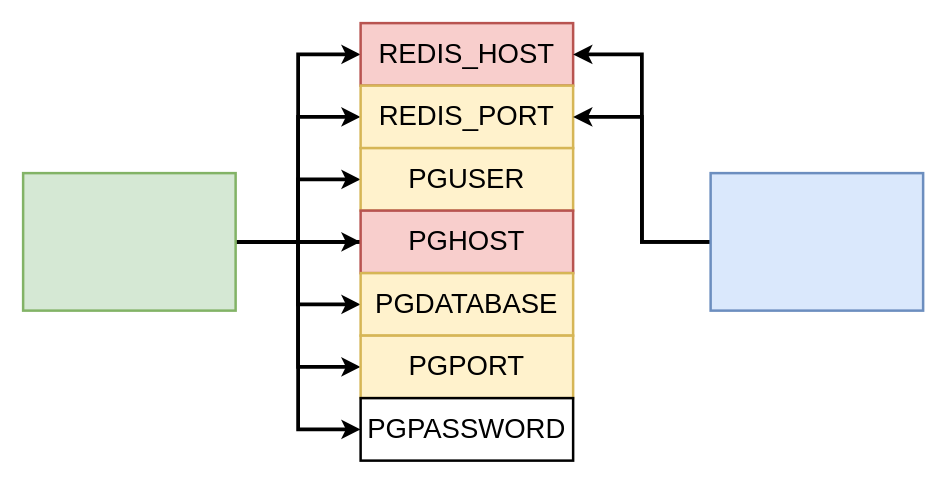
Image size: 945x483. Some labels were removed from this diagram. Each missing label, with the centre of its shape:
multi-server: [128,241]
multi-worker: [816,241]
